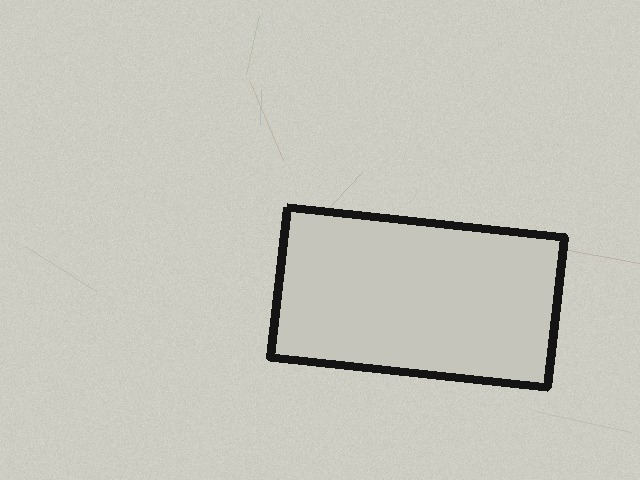parking_area: (270, 207, 564, 387)
